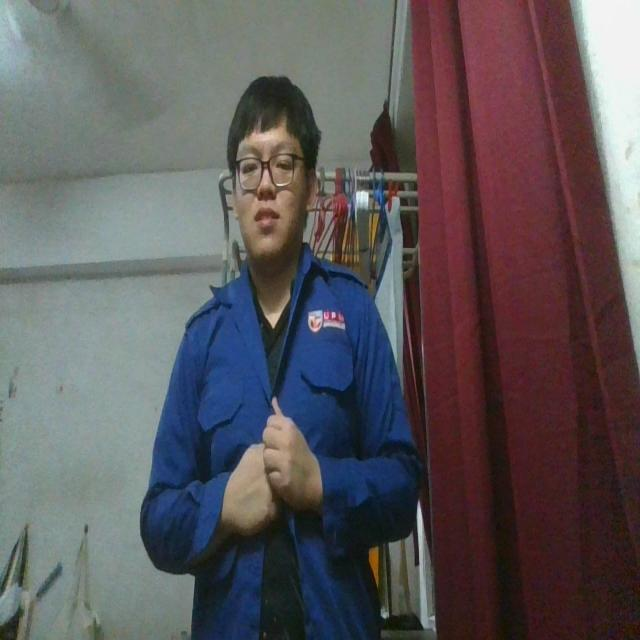person_with_labcoat: (141, 78, 421, 639)
